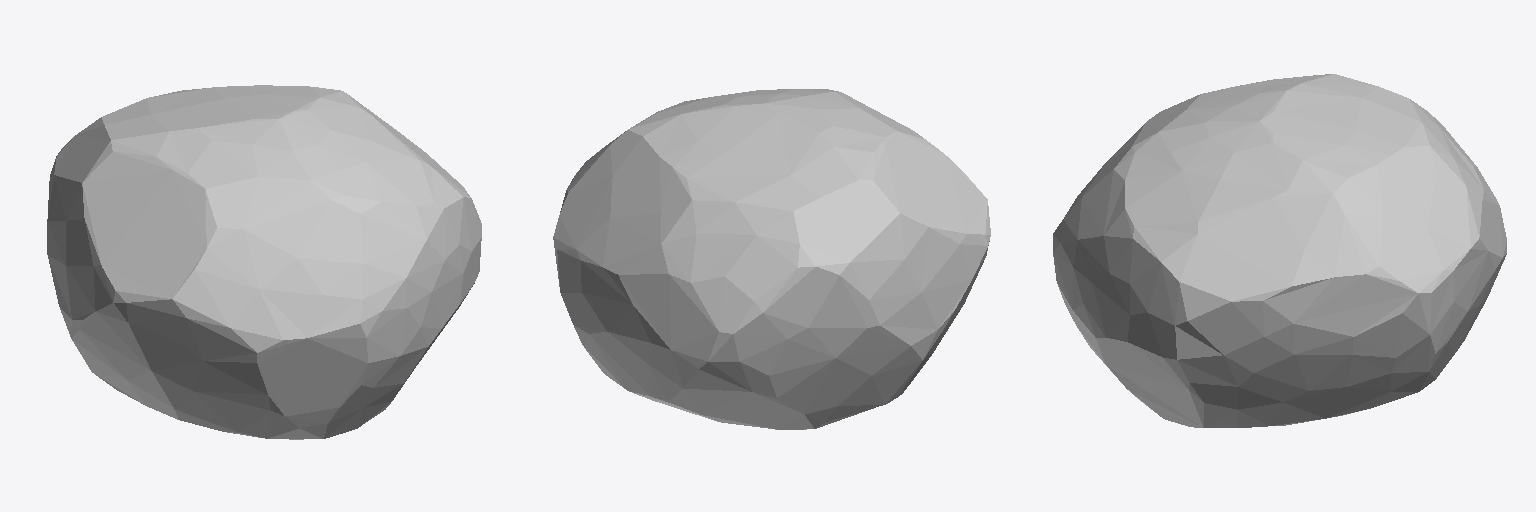
The model's file is rock2.obj.
3 renders of one model, left to right at view 1: azimuth 30°, elevation 25°; view 2: azimuth 150°, elevation 25°; view 3: azimuth 270°, elevation 25°, orthographic.
Visible parts, largest first — view 1: rock08; view 2: rock08; view 3: rock08.
Boxes of the visible parts, x1,y1,x2,y2 form: rock08: [47, 85, 481, 439]; rock08: [553, 89, 990, 429]; rock08: [1053, 74, 1506, 427].
Bounding box in the file's own units: 3.18 × 2.36 × 3.43.